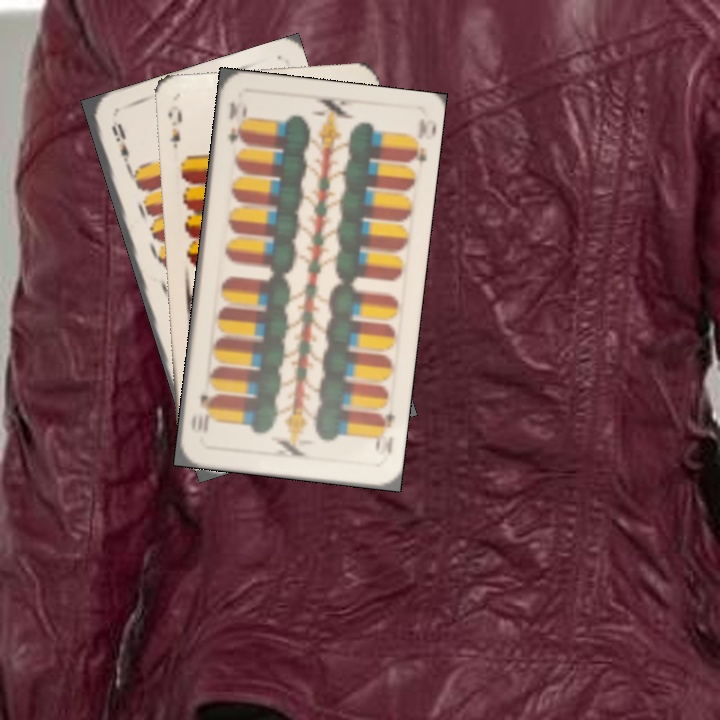E10: (371, 404, 398, 458), (224, 97, 250, 147)
E9: (107, 117, 134, 174), (166, 106, 185, 151)
